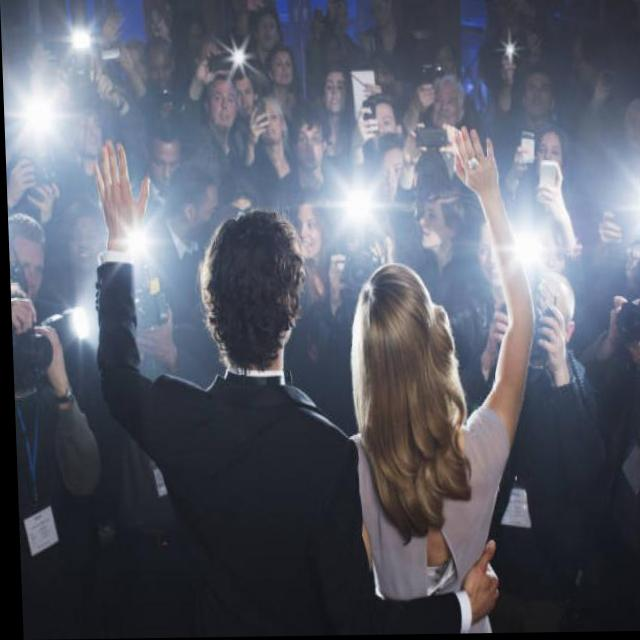no helmet: (344, 265, 460, 426), (202, 217, 302, 384)
